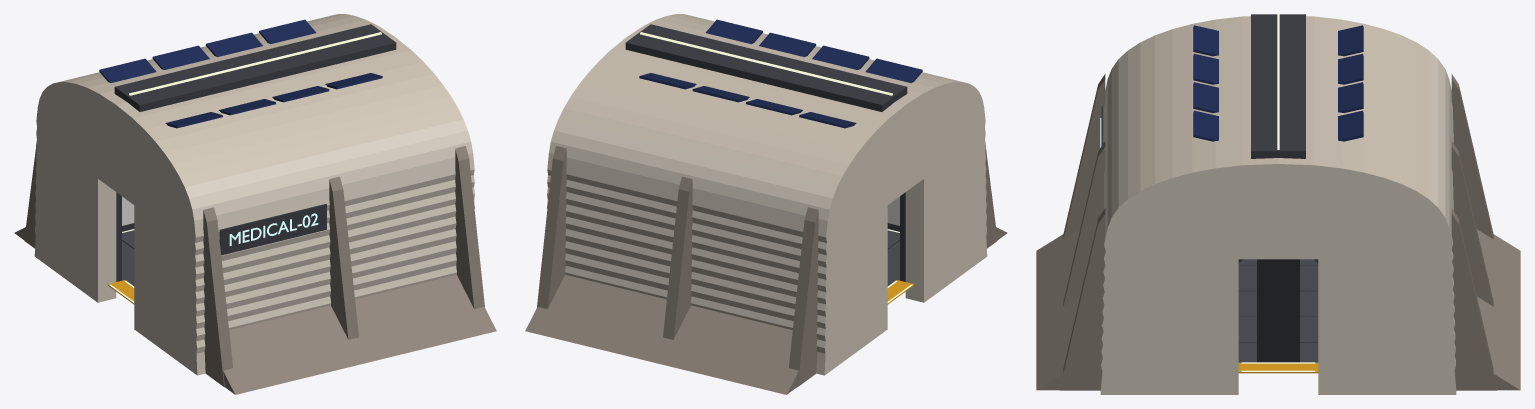
Rendered from Medical.fbx.
3 renders of one model, left to right at view 1: azimuth 30°, elevation 25°; view 2: azimuth 150°, elevation 25°; view 3: azimuth 270°, elevation 25°, orthographic. The views are drawn at different scales.
Visible parts, largest first — view 1: Medical solid, Medical trim; view 2: Medical solid, Medical trim; view 3: Medical solid, Medical trim.
Boxes of the visible parts, bbox=[...] form: Medical solid: bbox=[14, 14, 496, 394]; Medical trim: bbox=[99, 19, 396, 304]; Medical solid: bbox=[525, 14, 1007, 394]; Medical trim: bbox=[625, 19, 922, 304]; Medical solid: bbox=[1036, 16, 1520, 394]; Medical trim: bbox=[1100, 14, 1363, 373].
Size of the model in its own units: 5.76 by 4.32 by 7.92.
